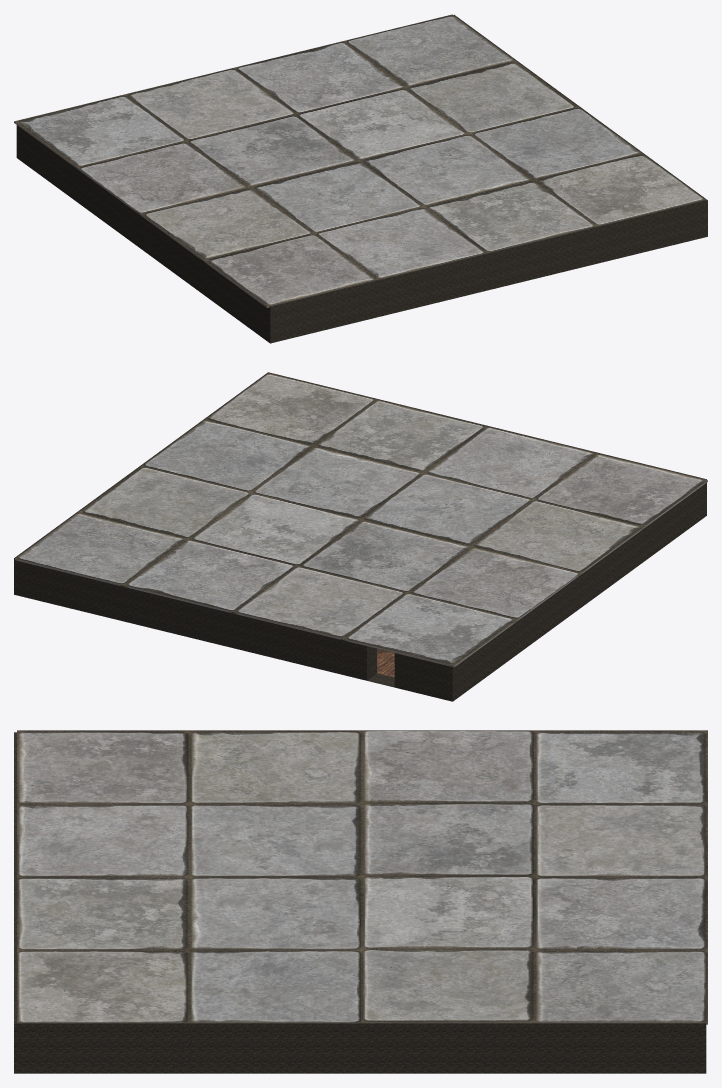
Rendered from Mapa 1.fbx.
The picture shows the model from 3 angles, top to bottom: view 1: azimuth 30°, elevation 25°; view 2: azimuth 150°, elevation 25°; view 3: azimuth 270°, elevation 25°; orthographic projection. The views are drawn at different scales.
Parts seen in each view (by area): view 1: Ceiling, Plane; view 2: Ceiling, Plane; view 3: Ceiling, Plane.
Boxes of the visible parts, left/top/right/bottom form: Ceiling: left=14, top=14, right=705, bottom=307; Plane: left=16, top=14, right=707, bottom=343; Ceiling: left=15, top=373, right=707, bottom=667; Plane: left=14, top=372, right=706, bottom=701; Ceiling: left=17, top=730, right=707, bottom=1024; Plane: left=14, top=732, right=706, bottom=1073.
Bounding box in the file's own units: 7608 × 628 × 7614.
